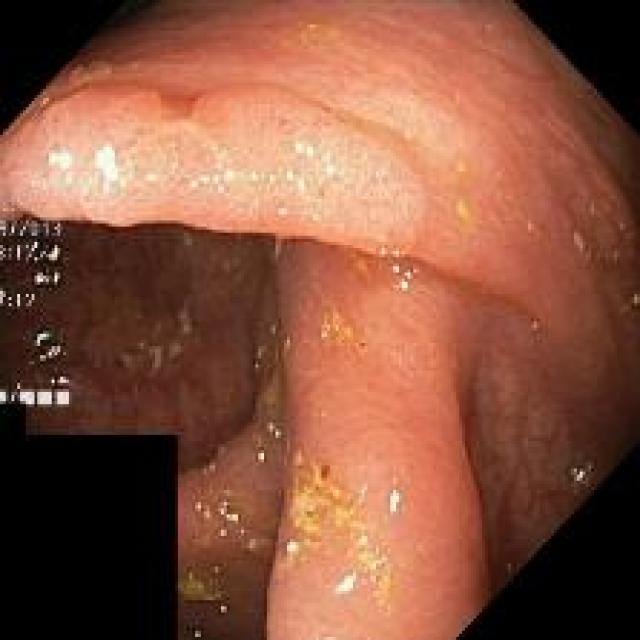Polyps: (0, 83, 429, 253)
